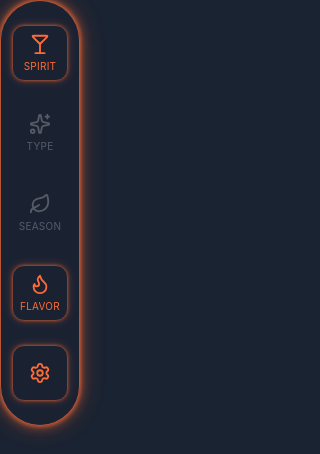
Test: TagRail › settings flyout › clicking the gear button twice closes its own flyout (toggle-to-close)
This screenshot has width=320, height=454.
Step 1. Click the button named "Settings" → (40,373), box top-left (12, 345), bottom-right (68, 401)
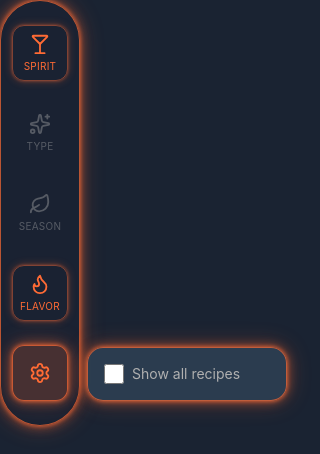
Now the checkbox labelled "Show all recipes" is shown, box top-left (104, 364), bottom-right (124, 384)
Step 2. Click the button named "Settings" → (40,373), box top-left (12, 345), bottom-right (68, 401)
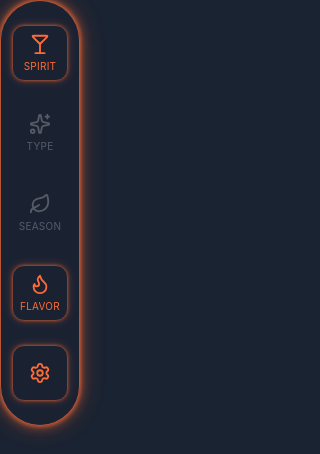
Now the label labelled "Show all recipes" is gone
